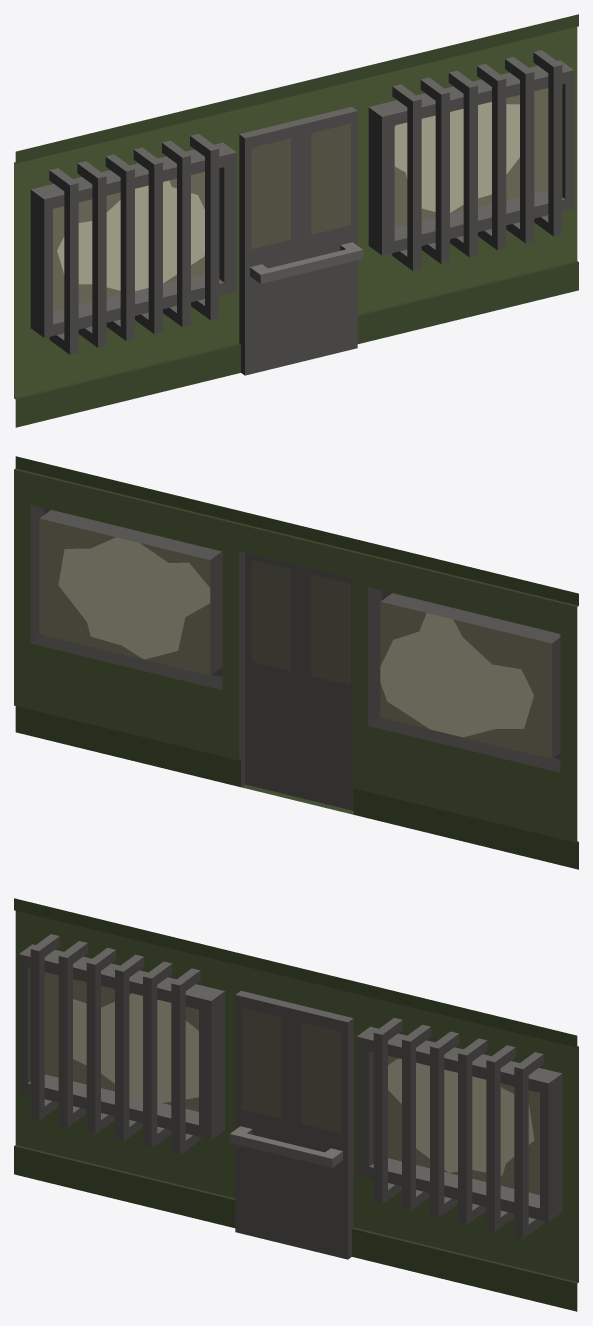
File: AI_Env_Security_Entrance_Green.fbx
3 renders of one model, top to bottom at view 1: azimuth 30°, elevation 25°; view 2: azimuth 150°, elevation 25°; view 3: azimuth 330°, elevation 25°, orthographic.
Parts seen in each view (by area): view 1: AI_Env_Security_Entrance_Green; view 2: AI_Env_Security_Entrance_Green; view 3: AI_Env_Security_Entrance_Green.
Boxes of the visible parts, <box> form: AI_Env_Security_Entrance_Green: <box>14,14,578,427</box>; AI_Env_Security_Entrance_Green: <box>14,456,578,869</box>; AI_Env_Security_Entrance_Green: <box>14,898,578,1311</box>.
Size of the model in its own units: 10 by 4.69 by 0.6325.
